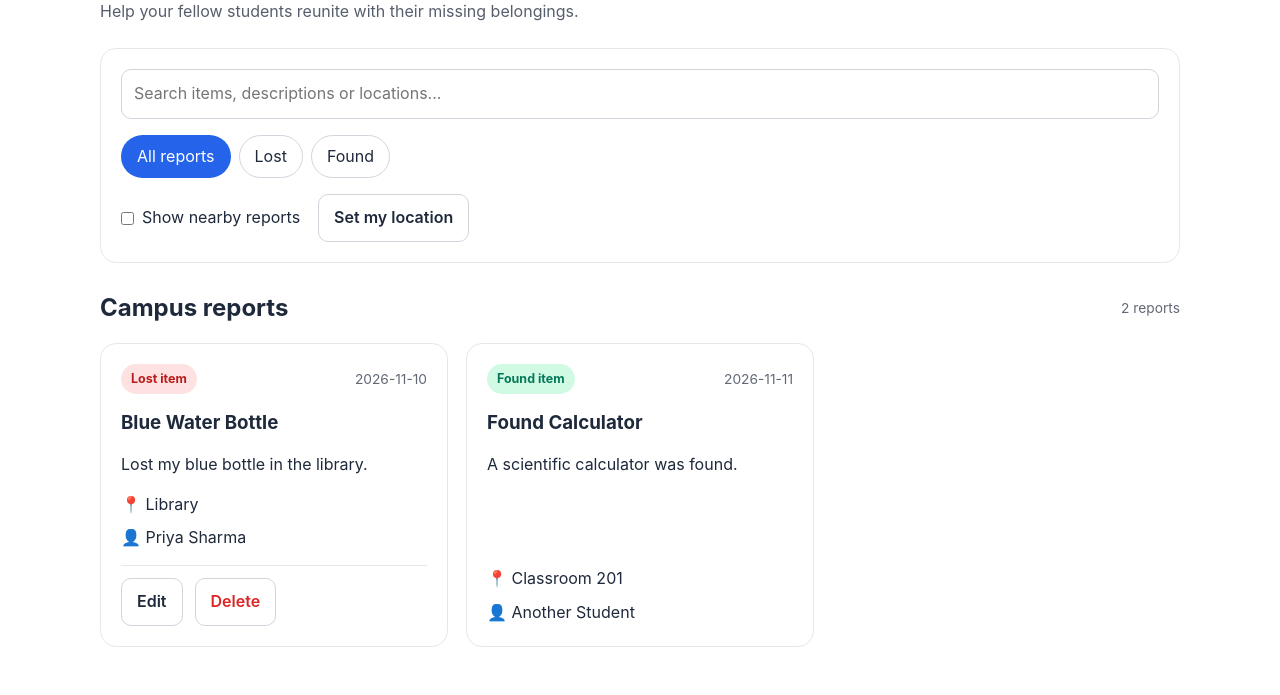
Test: LostFound Page › opens the edit form for the current user report
The image size is (1280, 695).
(page scrolled)
Click the button "Edit": (152, 602) [121,578,182,626]
(page scrolled)
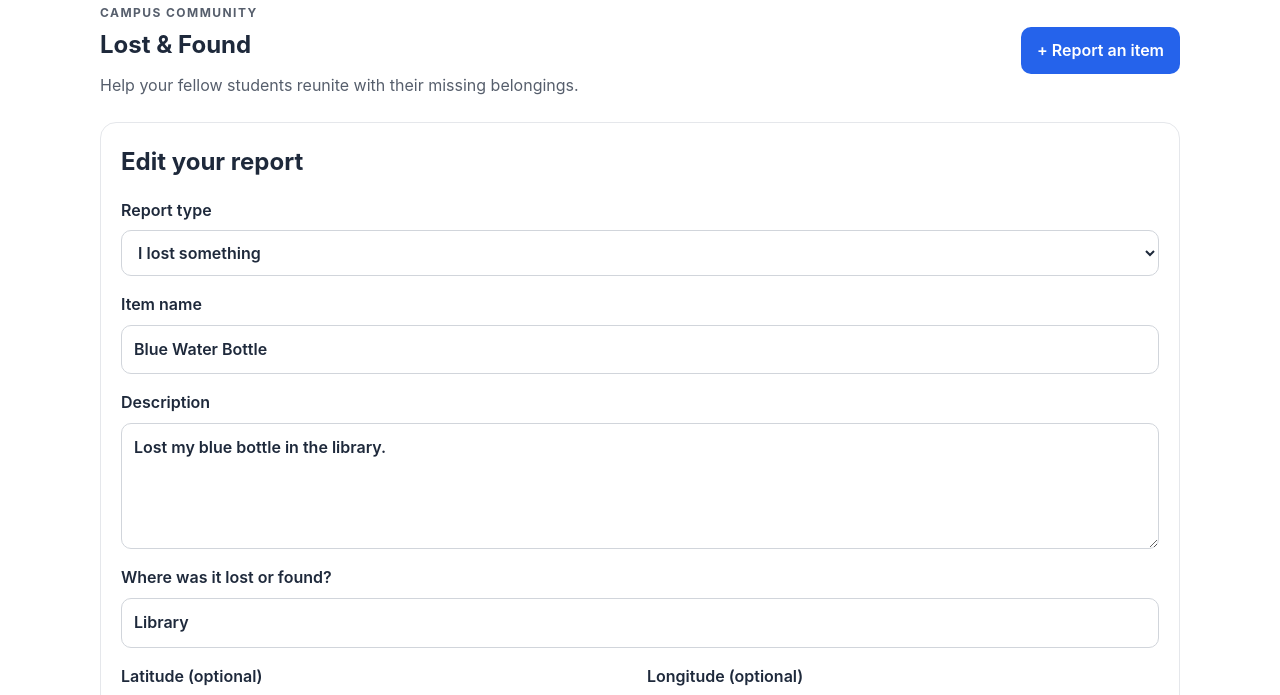
Now the heading "Edit your report" is shown, box [121,147,303,176]
Now the field labelled "Item name" holds "Blue Water Bottle", box [121,325,1159,374]
